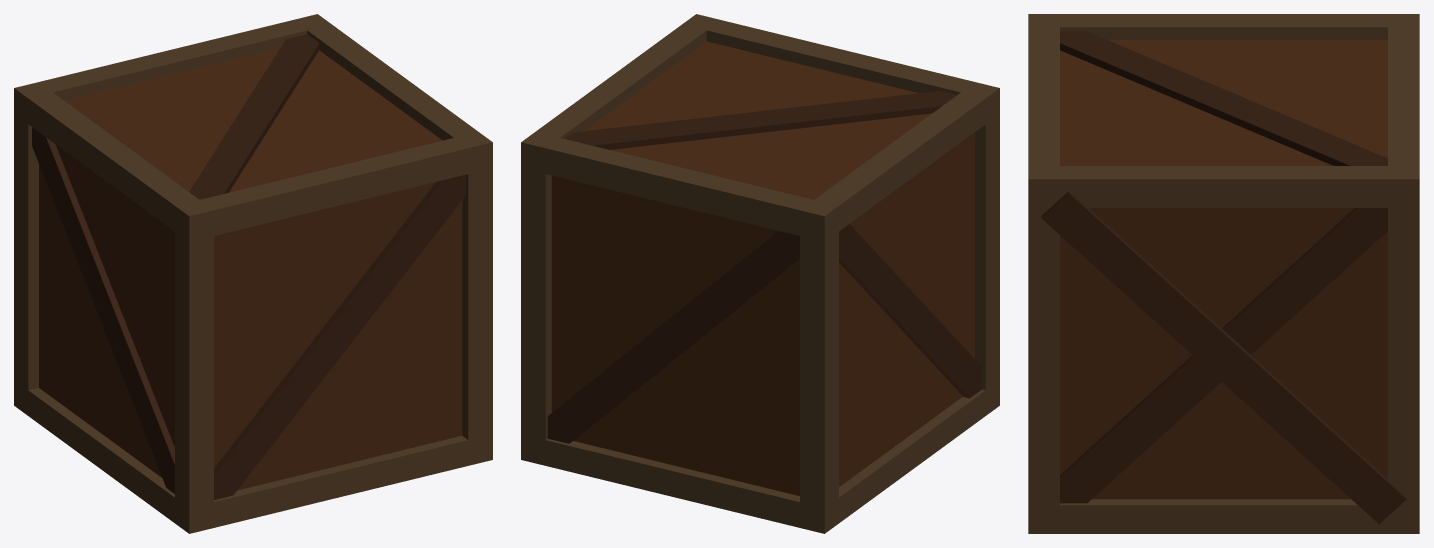
The picture shows the model from 3 angles, left to right: view 1: azimuth 30°, elevation 25°; view 2: azimuth 150°, elevation 25°; view 3: azimuth 270°, elevation 25°; orthographic projection. The views are drawn at different scales.
Visible parts, largest first — view 1: Box; view 2: Box; view 3: Box.
Part boxes in pixels (bbox=[...]): Box: bbox=[14, 14, 492, 533]; Box: bbox=[521, 14, 999, 533]; Box: bbox=[1028, 14, 1419, 533].
Size of the model in its own units: 70.91 by 70 by 70.
